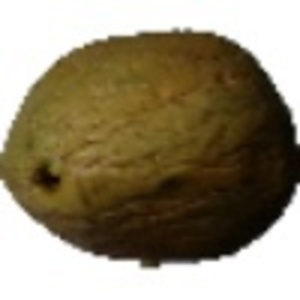mamão: (3, 35, 296, 268)
